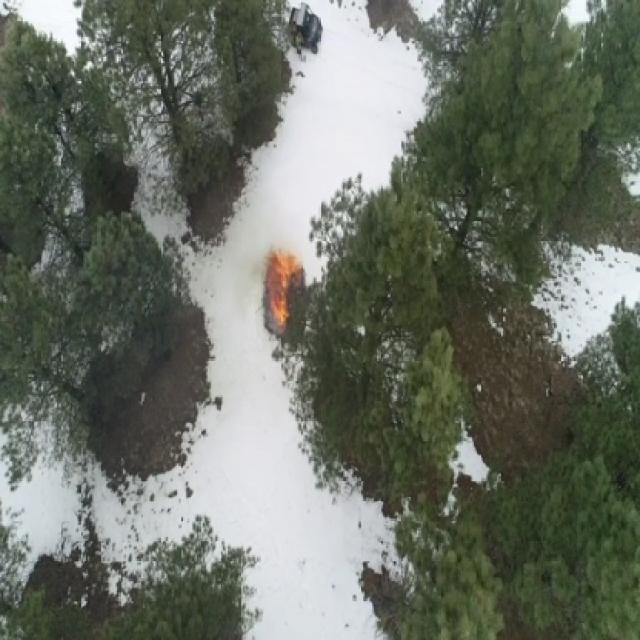Fire: (262, 246, 304, 334)
